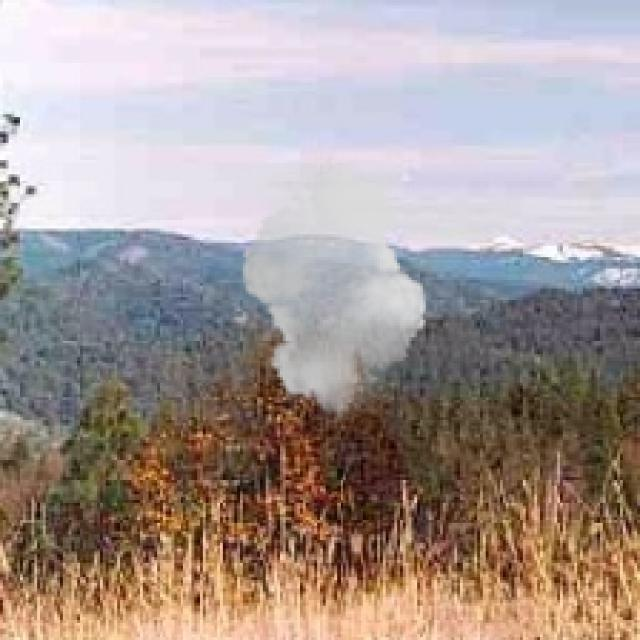smoke: (235, 157, 434, 420)
